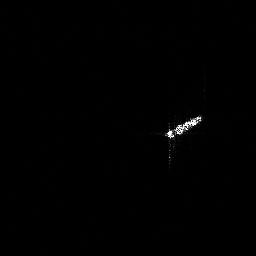ship: (160, 110, 206, 143)
